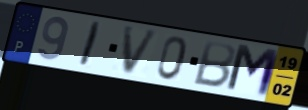0: (156, 35, 190, 82)
9: (36, 15, 72, 63)
B: (190, 39, 238, 90)
I: (76, 20, 104, 70)
M: (223, 41, 282, 100)
V: (121, 25, 161, 77)
